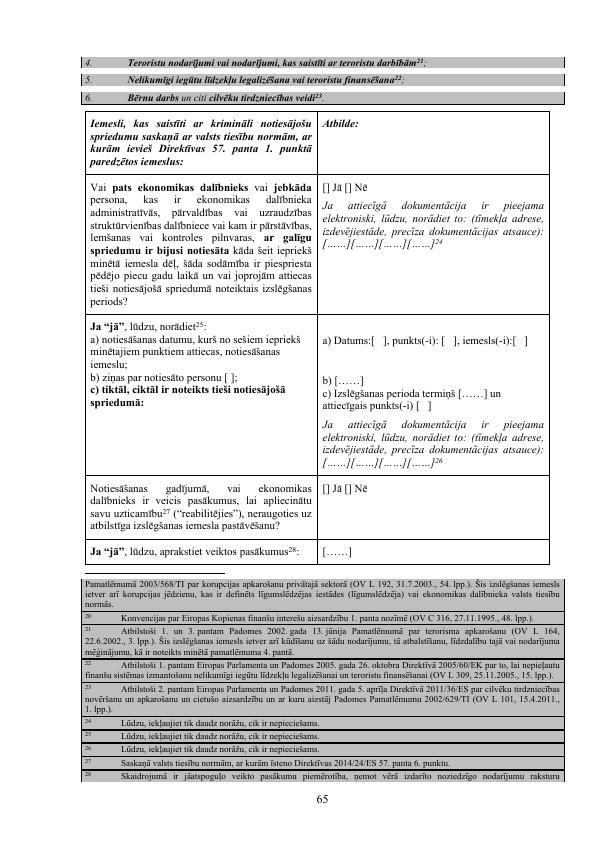table: (79, 108, 565, 567), (79, 575, 570, 792), (76, 51, 575, 106)
